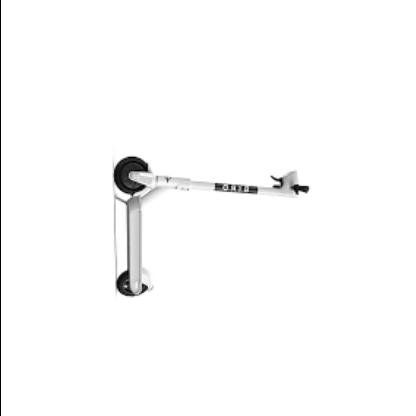bike: (110, 155, 311, 297)
